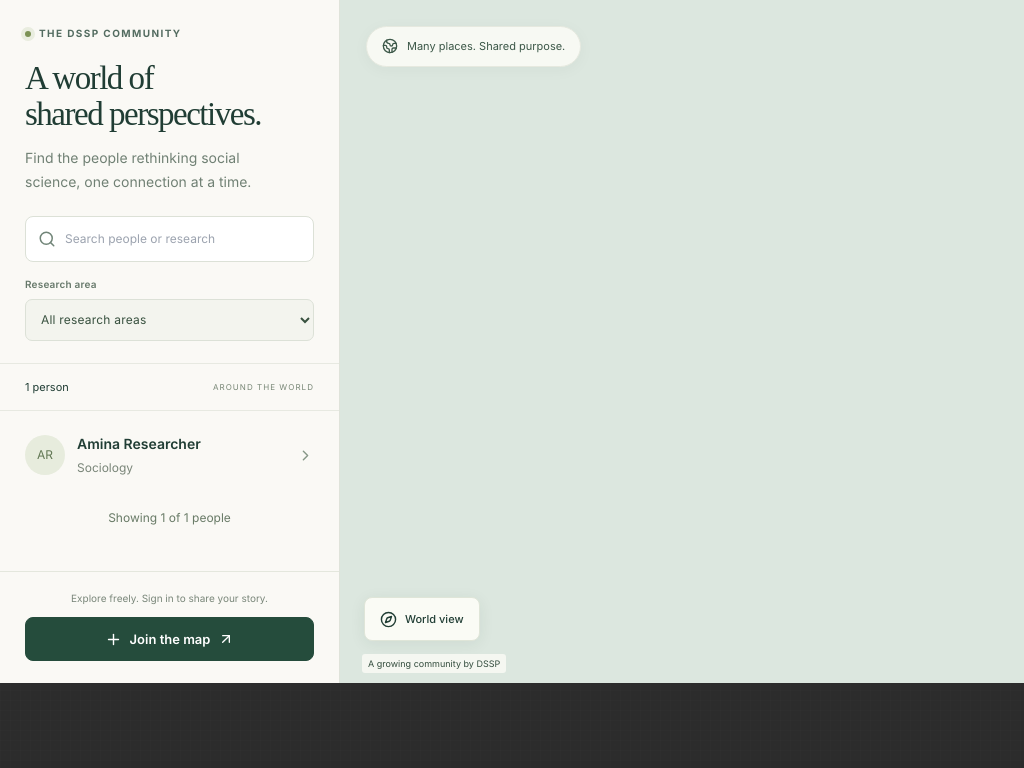
Scenario: community map interactions › renders profile text safely, rejects unsafe links, and preserves map coordinate order
The image size is (1024, 768).
Click the button "AR Amina Researcher Sociology": [170, 455] box [13, 419, 326, 491]
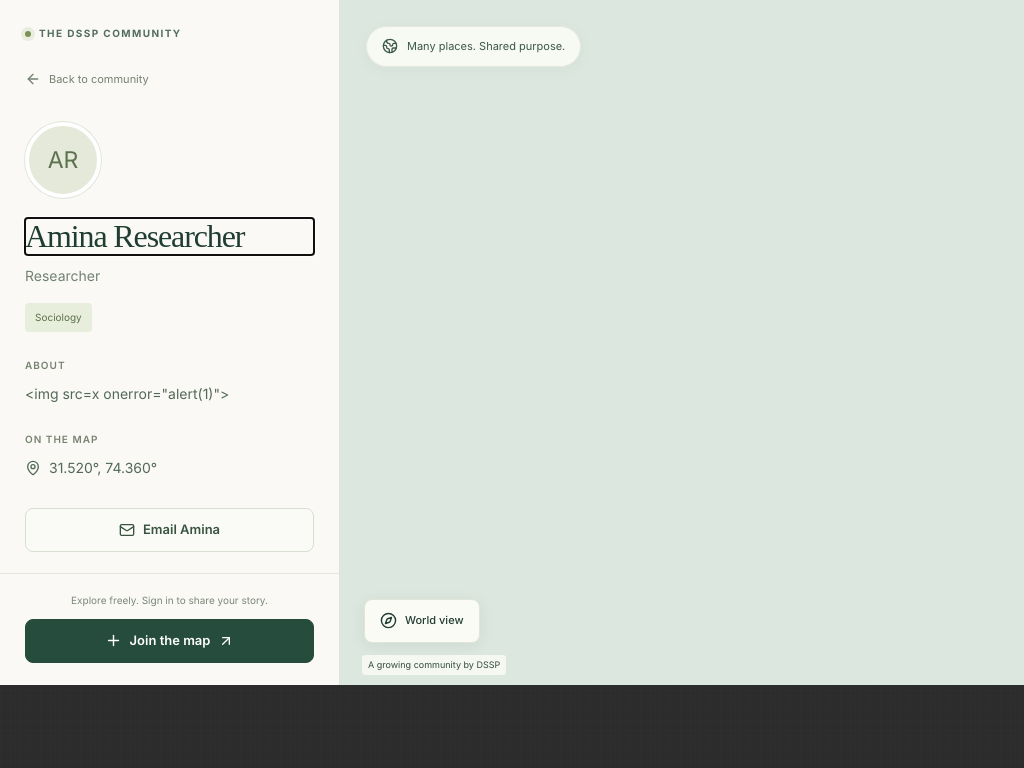
Expected: the text "<img src=x onerror=\"alert(1)\">" is shown, [25, 385, 229, 402]
